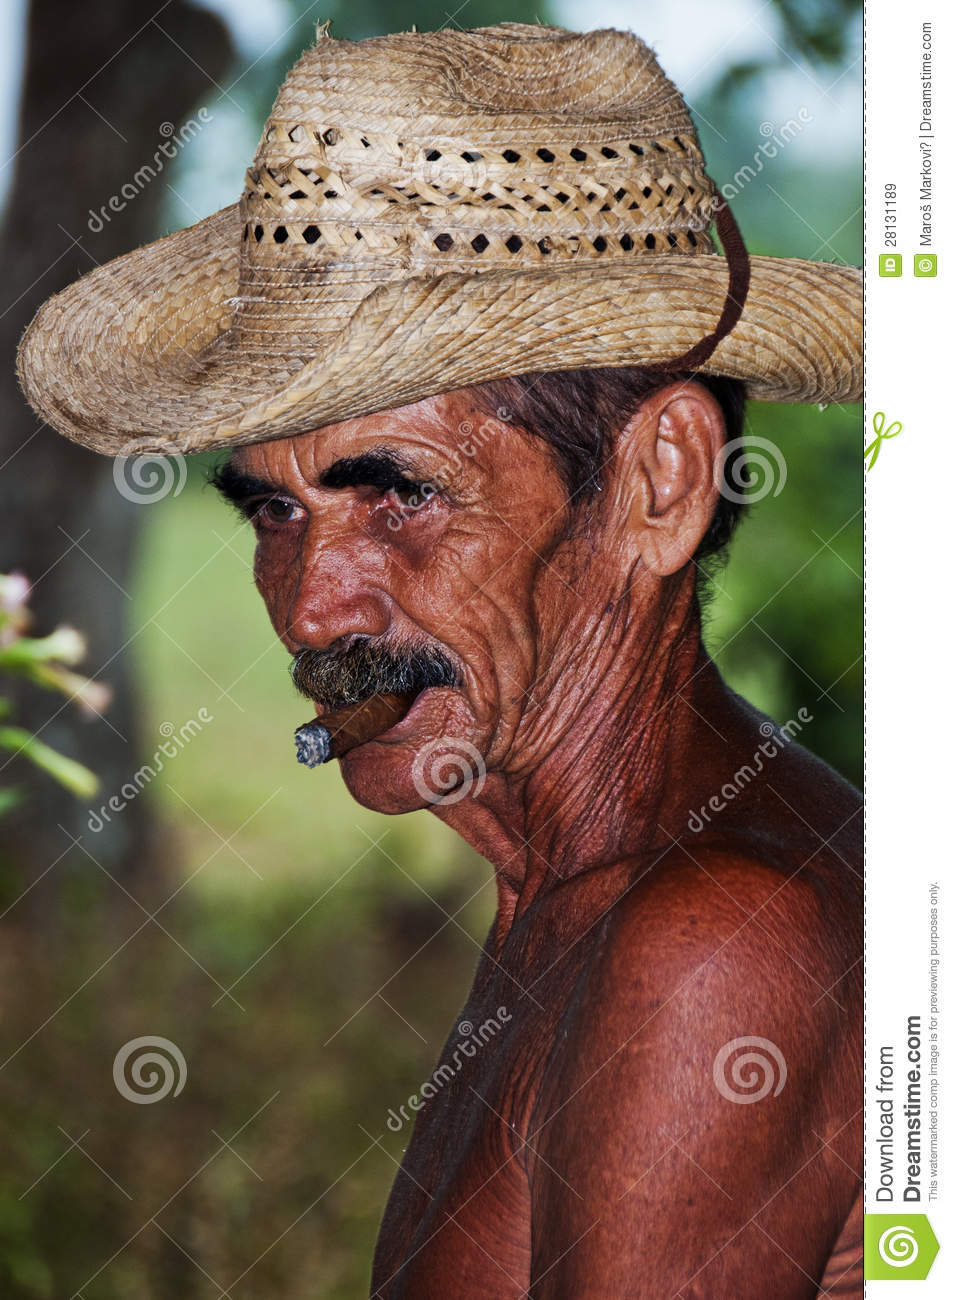human: (23, 30, 861, 1300)
